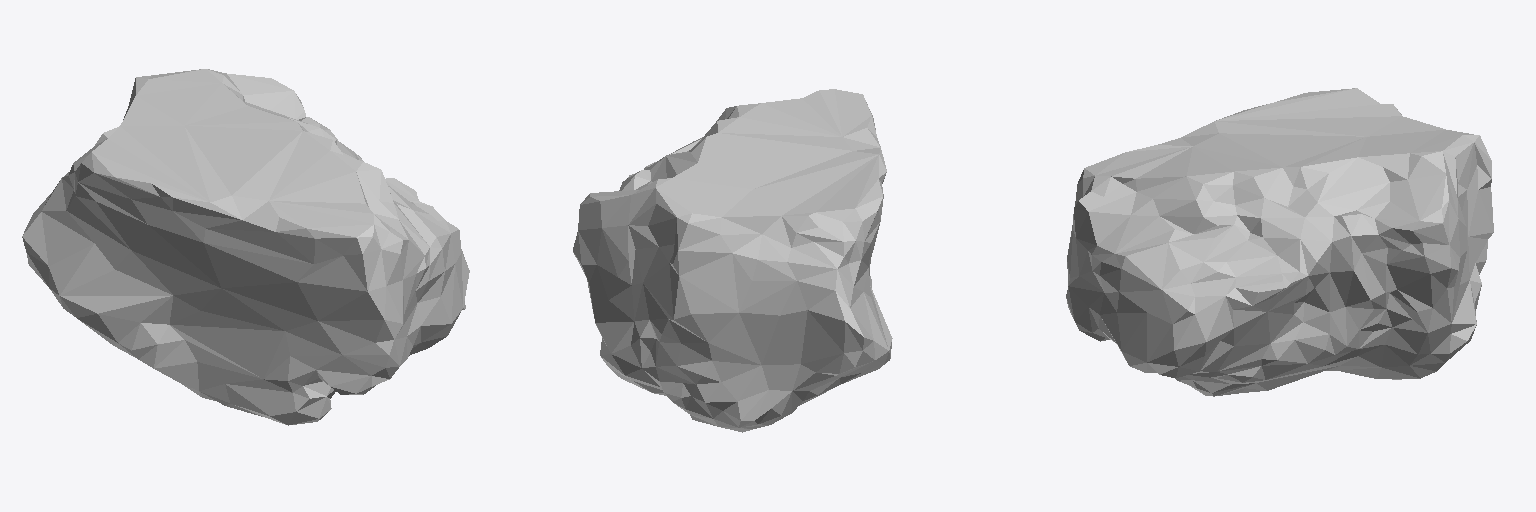
File: rock.obj
3 views of the same model, side by side, from view 1: azimuth 30°, elevation 25°; view 2: azimuth 150°, elevation 25°; view 3: azimuth 270°, elevation 25° (orthographic).
Visible parts, largest first — view 1: the_rock; view 2: the_rock; view 3: the_rock.
Boxes of the visible parts, <box> form: the_rock: <box>22,69,469,425</box>; the_rock: <box>573,89,892,432</box>; the_rock: <box>1066,88,1493,396</box>.
Bounding box in the file's own units: 2.03 × 1.41 × 2.28.